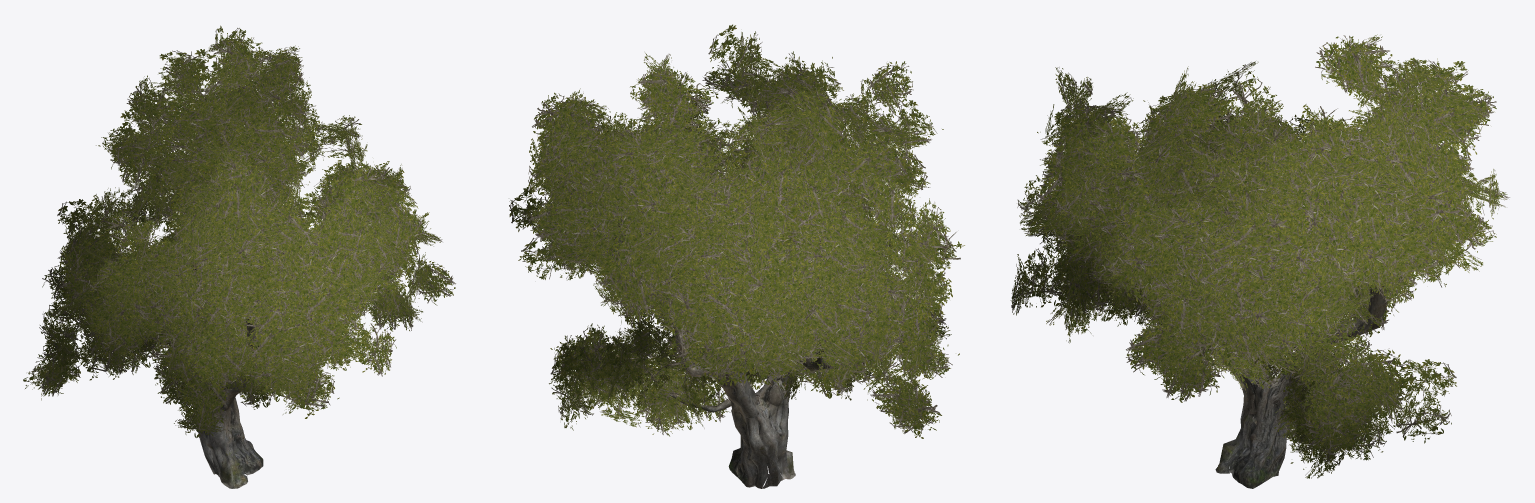
File: street_tree_03.glb
3 renders of one model, left to right at view 1: azimuth 30°, elevation 25°; view 2: azimuth 150°, elevation 25°; view 3: azimuth 270°, elevation 25°, orthographic. The views are drawn at different scales.
Parts seen in each view (by area): view 1: street_tree_03_leaves, street_tree_03_bark; view 2: street_tree_03_leaves, street_tree_03_bark; view 3: street_tree_03_leaves, street_tree_03_bark.
Boxes of the visible parts, x1,y1,x2,y2 form: street_tree_03_leaves: [23, 25, 455, 437]; street_tree_03_bark: [75, 96, 378, 488]; street_tree_03_leaves: [509, 24, 964, 438]; street_tree_03_bark: [576, 92, 897, 488]; street_tree_03_leaves: [1010, 34, 1509, 478]; street_tree_03_bark: [1057, 99, 1444, 488].
Bounding box in the file's own units: 6.87 × 6.73 × 6.56.
3 materials, 3 textured.
